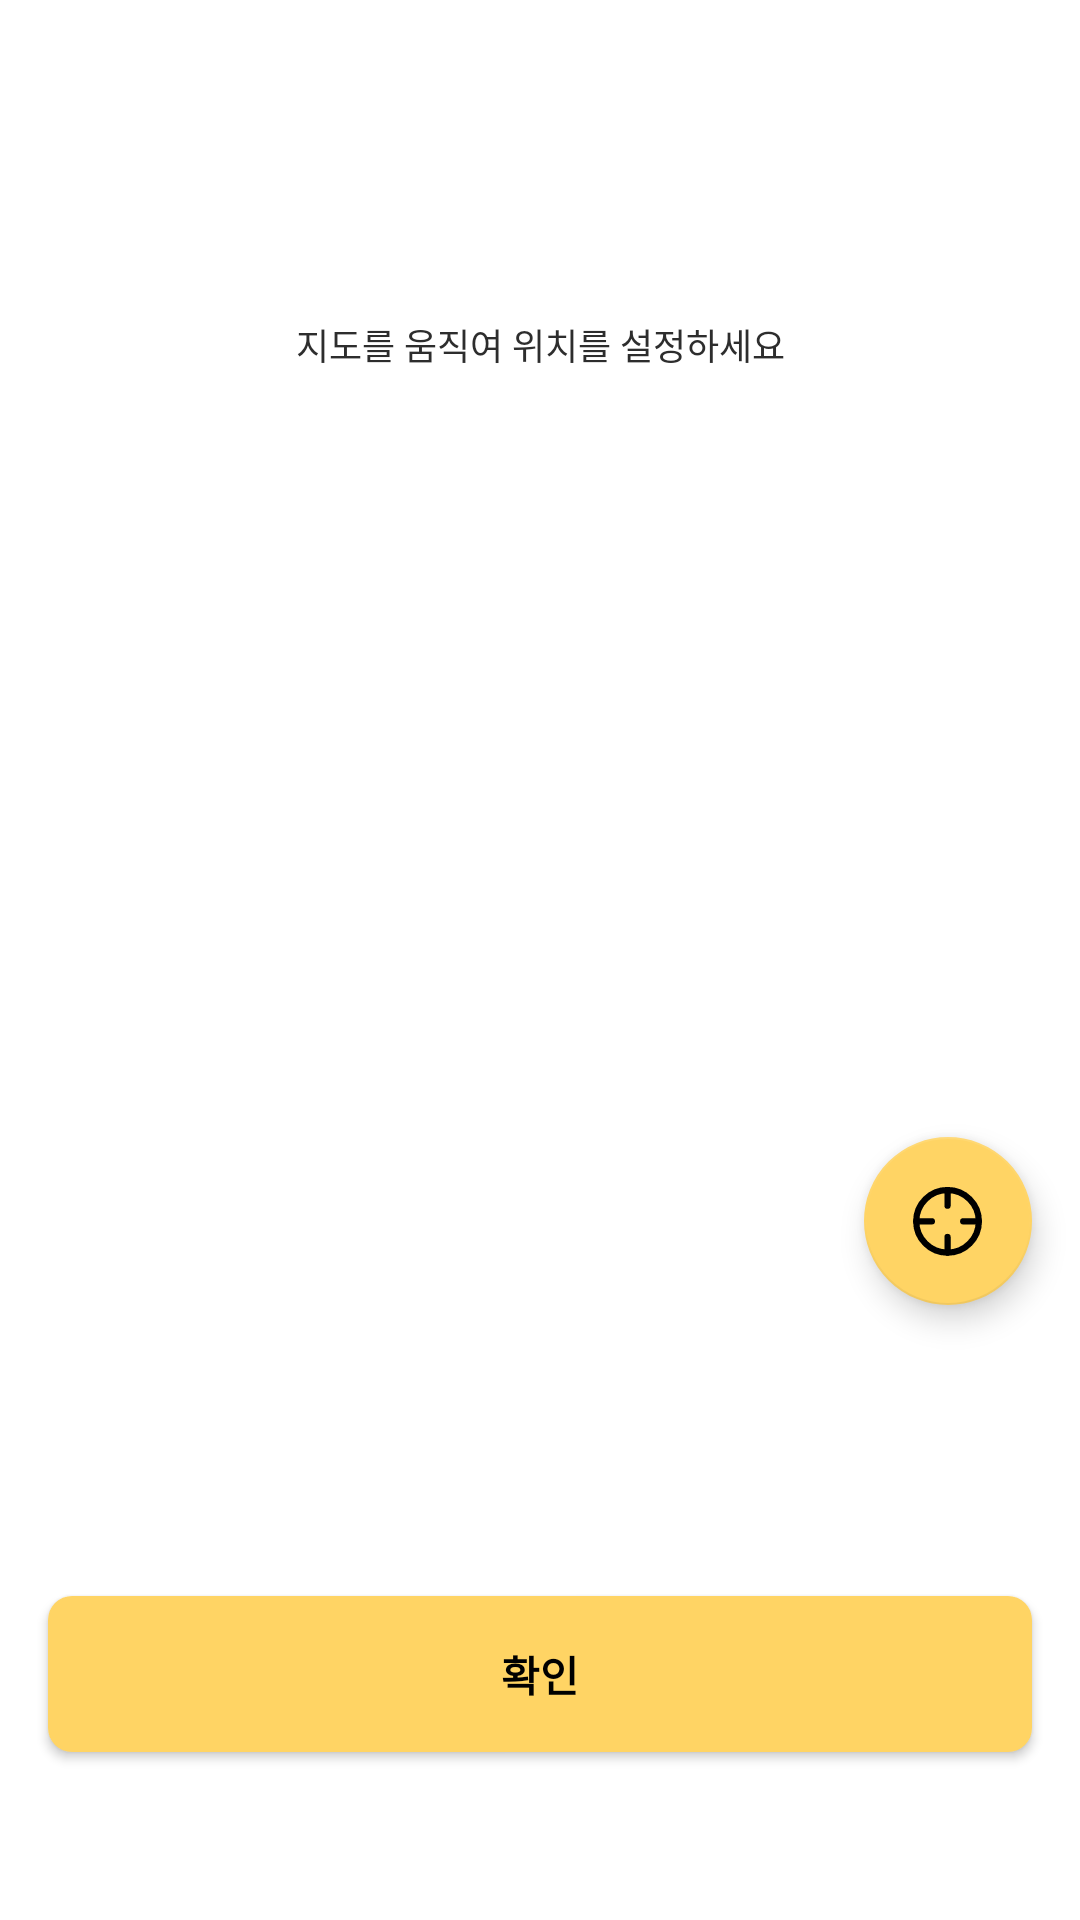

Icon bounding boxes for this 1080×1920 phone screenshot, format {"left": x1, "top": y1, "right": x2, "bottom": y2}:
추적: {"left": 864, "top": 1137, "right": 1032, "bottom": 1305}
